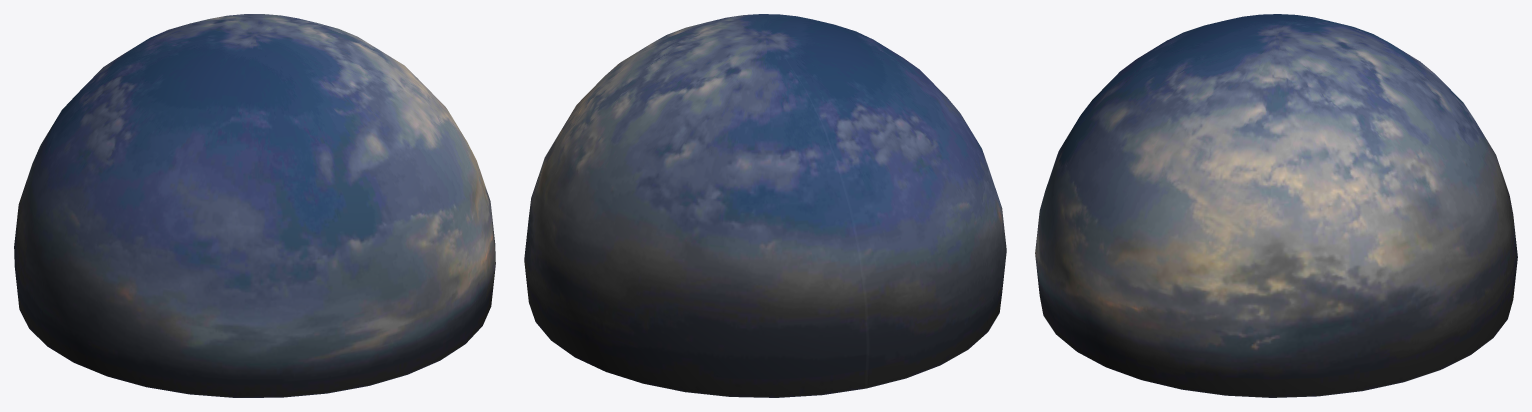
Rendered from Skybox_map6.fbx.
3 renders of one model, left to right at view 1: azimuth 30°, elevation 25°; view 2: azimuth 150°, elevation 25°; view 3: azimuth 270°, elevation 25°, orthographic.
Parts seen in each view (by area): view 1: Skybox_map3; view 2: Skybox_map3; view 3: Skybox_map3.
Boxes of the visible parts, box(x1,y1,x2,y2) form: Skybox_map3: box(14, 14, 495, 397); Skybox_map3: box(524, 14, 1006, 397); Skybox_map3: box(1035, 14, 1517, 397).
Bounding box in the file's own units: 55066 × 32910 × 55066.
